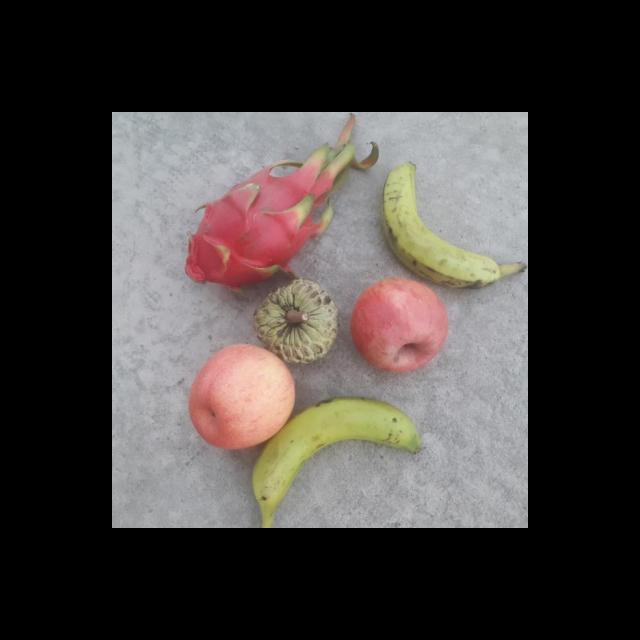Sakya fruit: (252, 278, 344, 366)
apple: (190, 340, 288, 451), (347, 278, 451, 372)
banana: (247, 396, 429, 520), (380, 160, 526, 286)
pitaya: (181, 168, 317, 290)
